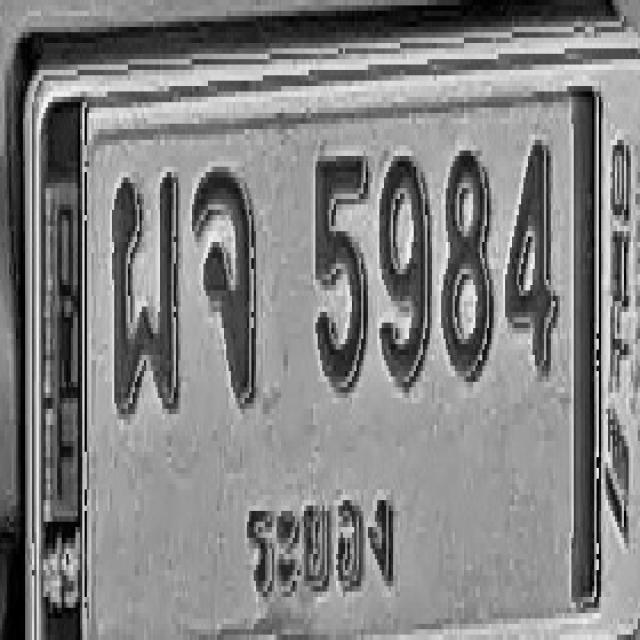17ChorChan: (193, 167, 257, 403)
37PhorPhueng: (112, 169, 181, 417)
4: (505, 134, 558, 376)
5: (315, 150, 368, 392)
8: (442, 145, 493, 377)
9: (378, 151, 431, 387)
Rayong: (236, 482, 403, 622)
